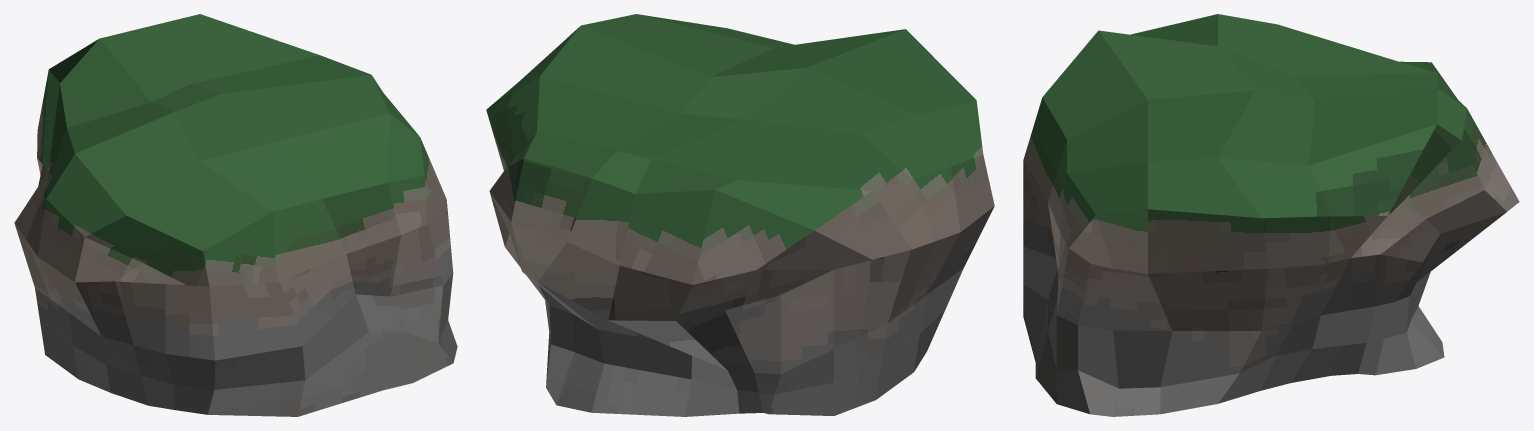
Rendered from boulder_ledge.gltf.
The picture shows the model from 3 angles, left to right: view 1: azimuth 30°, elevation 25°; view 2: azimuth 150°, elevation 25°; view 3: azimuth 270°, elevation 25°; orthographic projection. The views are drawn at different scales.
Visible parts, largest first — view 1: cuboid; view 2: cuboid; view 3: cuboid.
Boxes of the visible parts, x1,y1,x2,y2 form: cuboid: (14, 14, 457, 416); cuboid: (486, 14, 994, 416); cuboid: (1023, 14, 1519, 416).
Bounding box in the file's own units: 2.25 × 1.46 × 2.51.
Materials: 1 (1 with a texture image).
